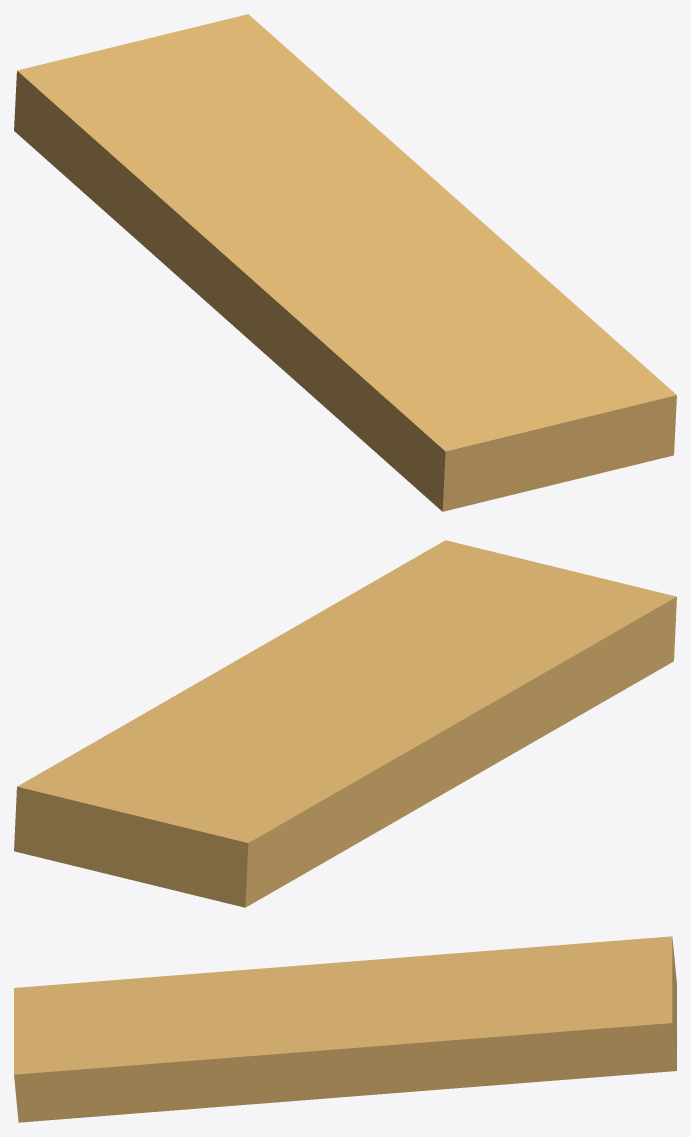
File: TempleEntryDeformableSand.fbx
3 renders of one model, top to bottom at view 1: azimuth 30°, elevation 25°; view 2: azimuth 150°, elevation 25°; view 3: azimuth 270°, elevation 25°, orthographic. The views are drawn at different scales.
Parts seen in each view (by area): view 1: TempleEntrySandRoom; view 2: TempleEntrySandRoom; view 3: TempleEntrySandRoom.
Boxes of the visible parts, x1,y1,x2,y2 form: TempleEntrySandRoom: [14, 14, 676, 511]; TempleEntrySandRoom: [14, 540, 676, 907]; TempleEntrySandRoom: [14, 936, 676, 1122].
Size of the model in its own units: 144 by 76.95 by 464.
